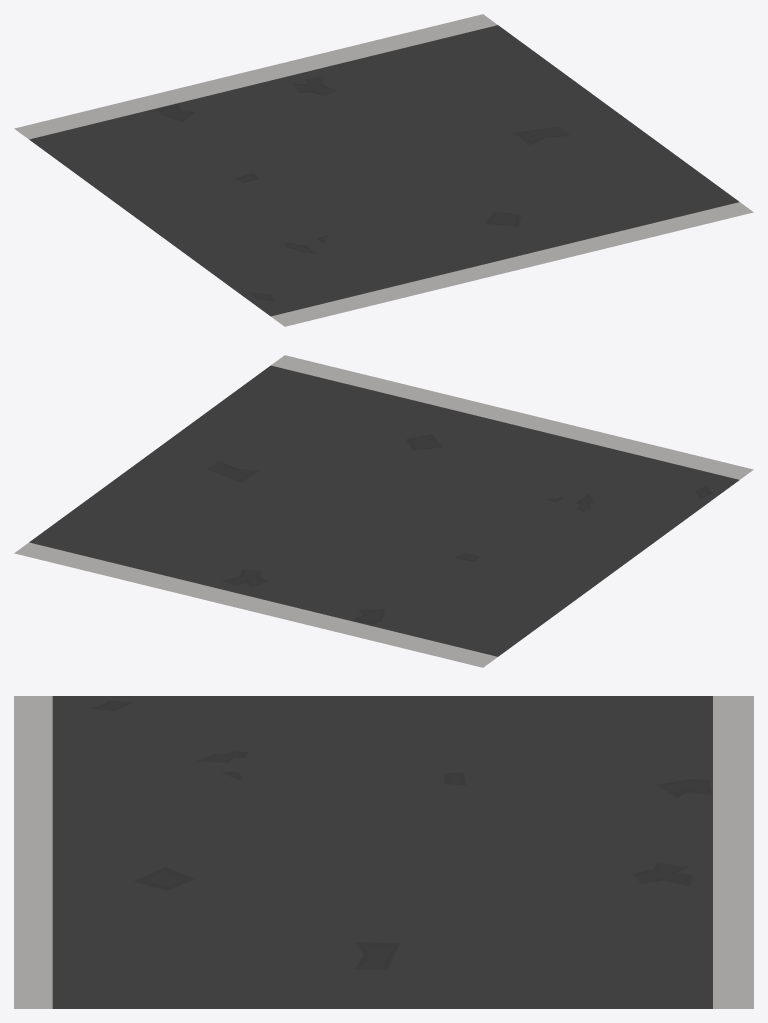
File: SM_Gen_Env_Road_Small_03.glb
The picture shows the model from 3 angles, top to bottom: view 1: azimuth 30°, elevation 25°; view 2: azimuth 150°, elevation 25°; view 3: azimuth 270°, elevation 25°; orthographic projection. The views are drawn at different scales.
Visible parts, largest first — view 1: SM_Gen_Env_Road_Small_032; view 2: SM_Gen_Env_Road_Small_032; view 3: SM_Gen_Env_Road_Small_032.
Part boxes in pixels (box(x1,y1,x2,y2)): SM_Gen_Env_Road_Small_032: box(14, 14, 753, 326); SM_Gen_Env_Road_Small_032: box(14, 355, 753, 667); SM_Gen_Env_Road_Small_032: box(14, 696, 753, 1008).
Size of the model in its own units: 5 by 1.07e-19 by 5.
Materials: 1 (1 with a texture image).
